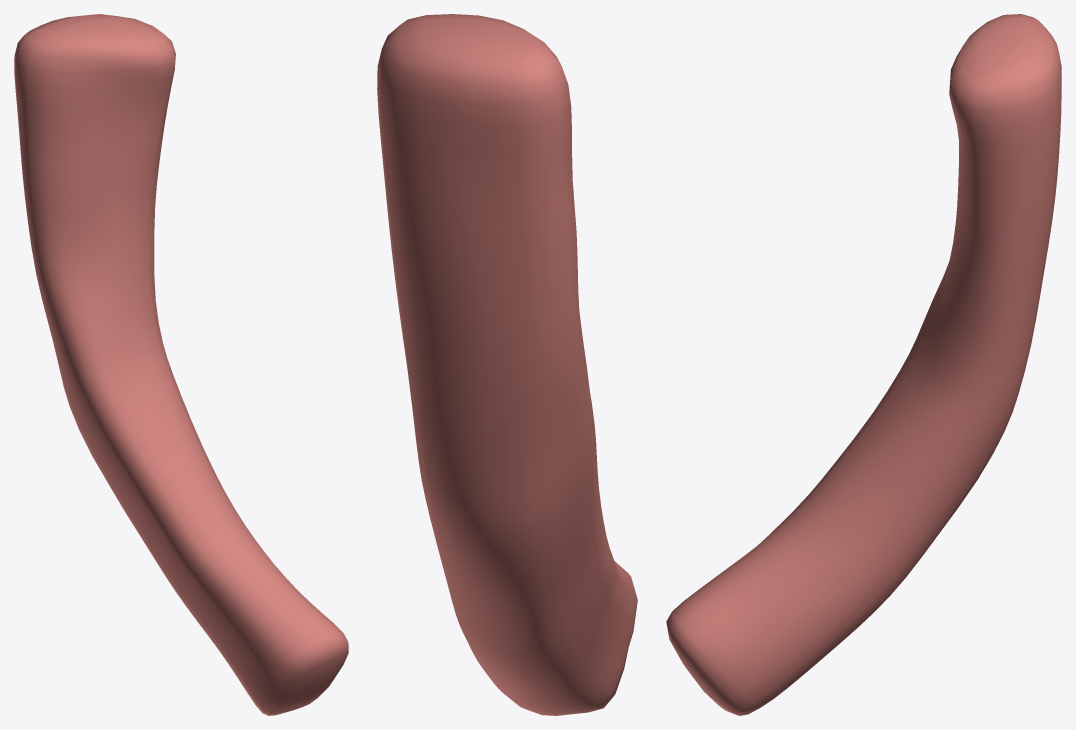
The picture shows the model from 3 angles, left to right: view 1: azimuth 30°, elevation 25°; view 2: azimuth 150°, elevation 25°; view 3: azimuth 270°, elevation 25°; orthographic projection. The views are drawn at different scales.
Visible parts, largest first — view 1: ZA_037028f291e16be7; view 2: ZA_037028f291e16be7; view 3: ZA_037028f291e16be7.
Part boxes in pixels (left/top/right/bottom): ZA_037028f291e16be7: left=14, top=14, right=348, bottom=715; ZA_037028f291e16be7: left=377, top=14, right=637, bottom=715; ZA_037028f291e16be7: left=666, top=14, right=1061, bottom=715.
Size of the model in its own units: 0.0134 by 0.0429 by 0.0242.
